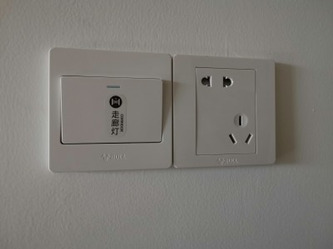switch: (55, 66, 168, 153)
